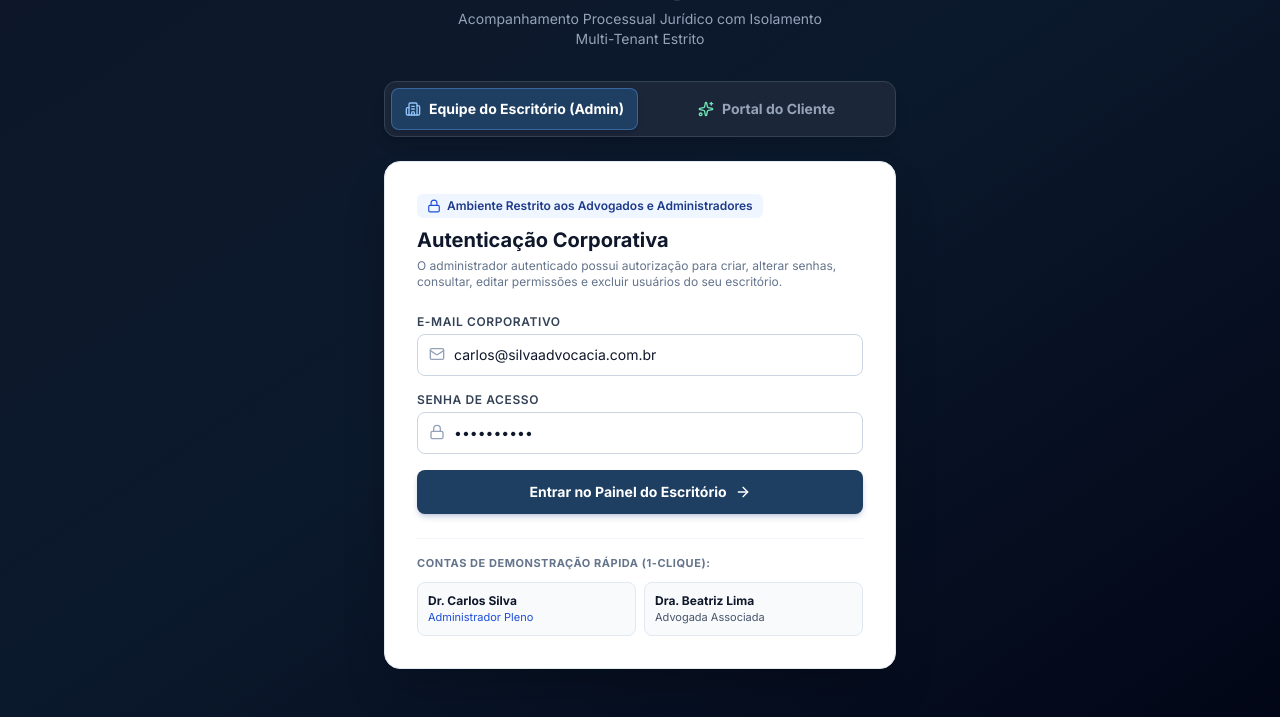
Scenario: Fluxo de Abertura do Sistema e Telas de Login › 4. Ao clicar em Desconectar, deve retornar para a tela de login inicial
(page scrolled)
# Login rápido de administrador
What coordinates should you click on to do the following:
click the text "Dr. Carlos Silva"
I would click on:
 (472, 600)
Its box is [428,592,517,608].
(page scrolled)
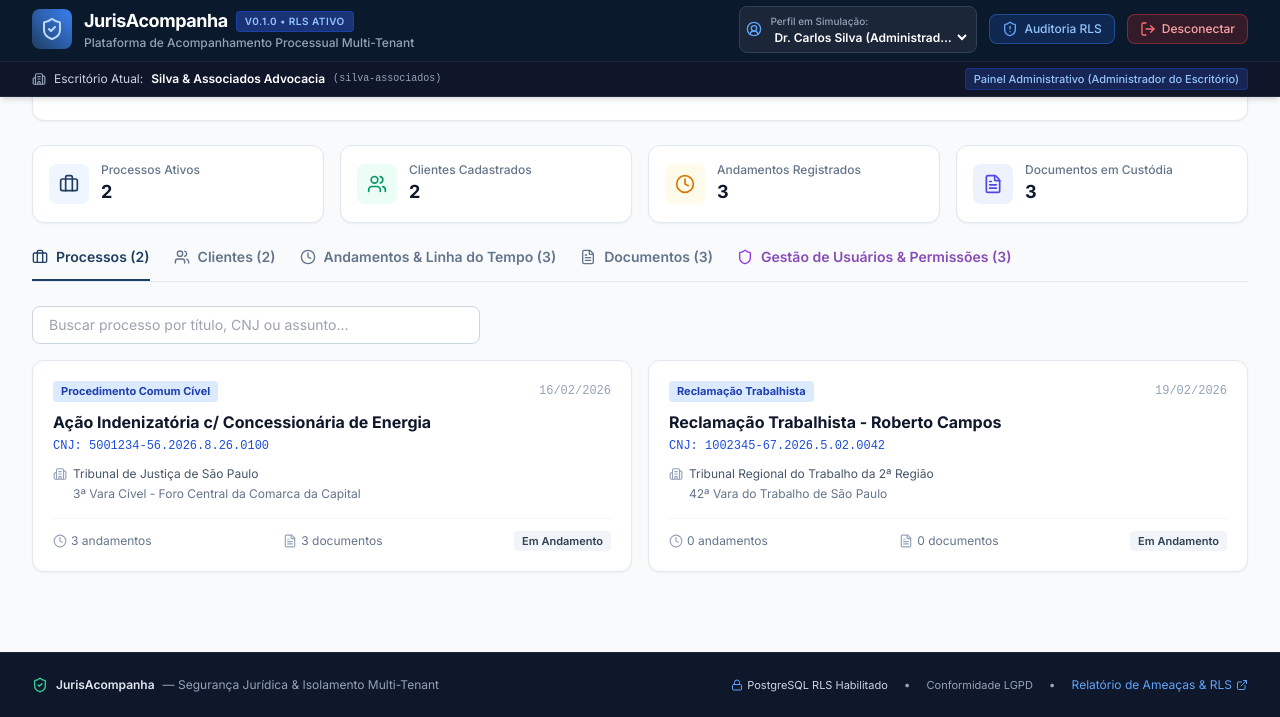
expect the text "Painel de Gestão Jurídica" is shown: met, box [57,22,244,38]
# Clica no botão Desconectar do cabeçalho
What coordinates should you click on to do the following:
click the button titled "Encerrar sessão e voltar para a tela de login"
I would click on:
 (1187, 29)
Its box is [1127,14,1248,44].
(page scrolled)
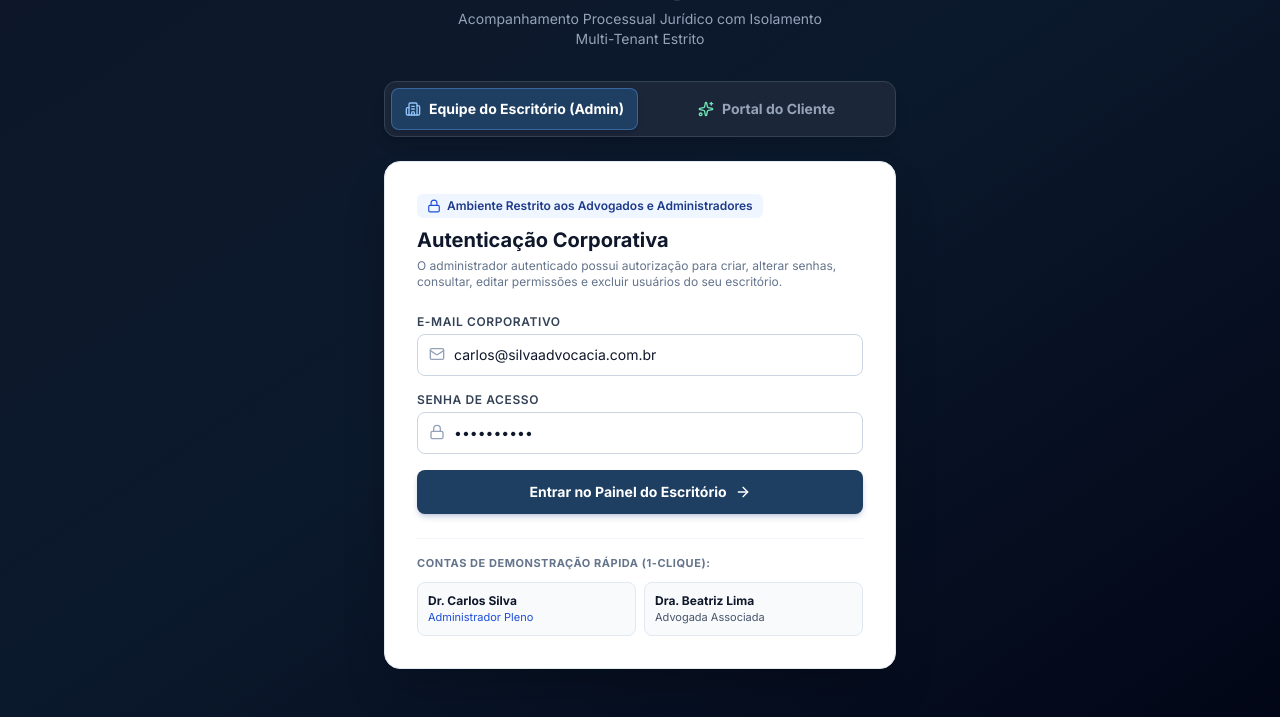
expect the heading "Autenticação Corporativa" is shown: met, box [417,228,669,252]
